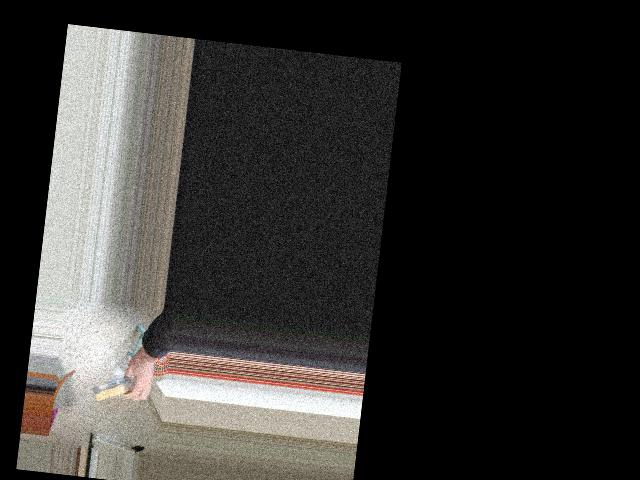cheese: (86, 361, 158, 422)
